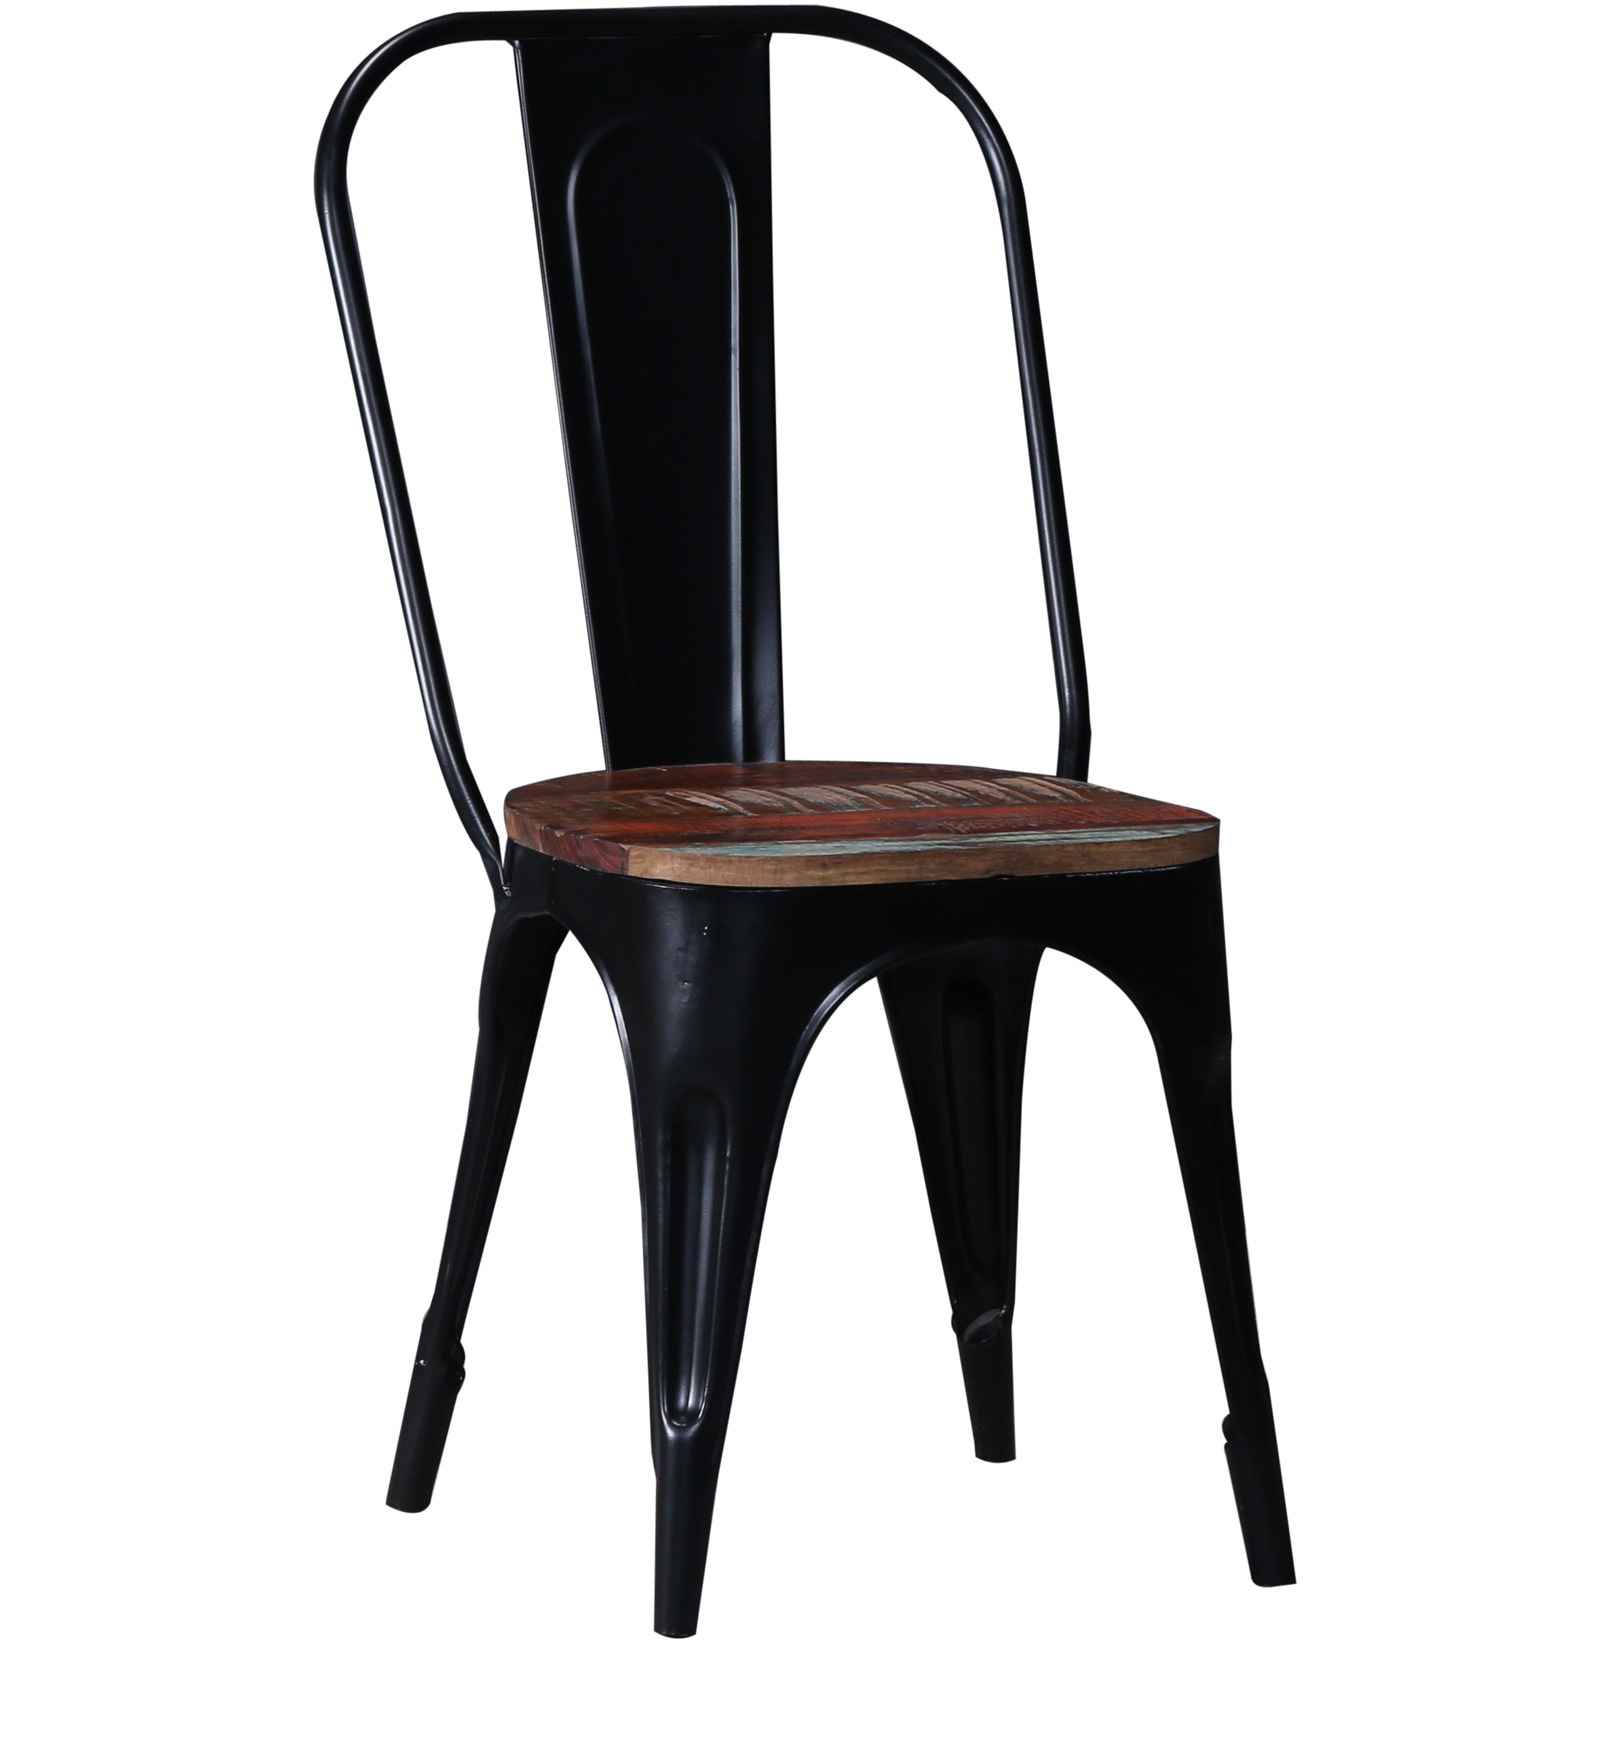Kumtor Metal Chair in Distress Black Color with Wooden Seat by Bohemiana: (239, 12, 1418, 1760)
